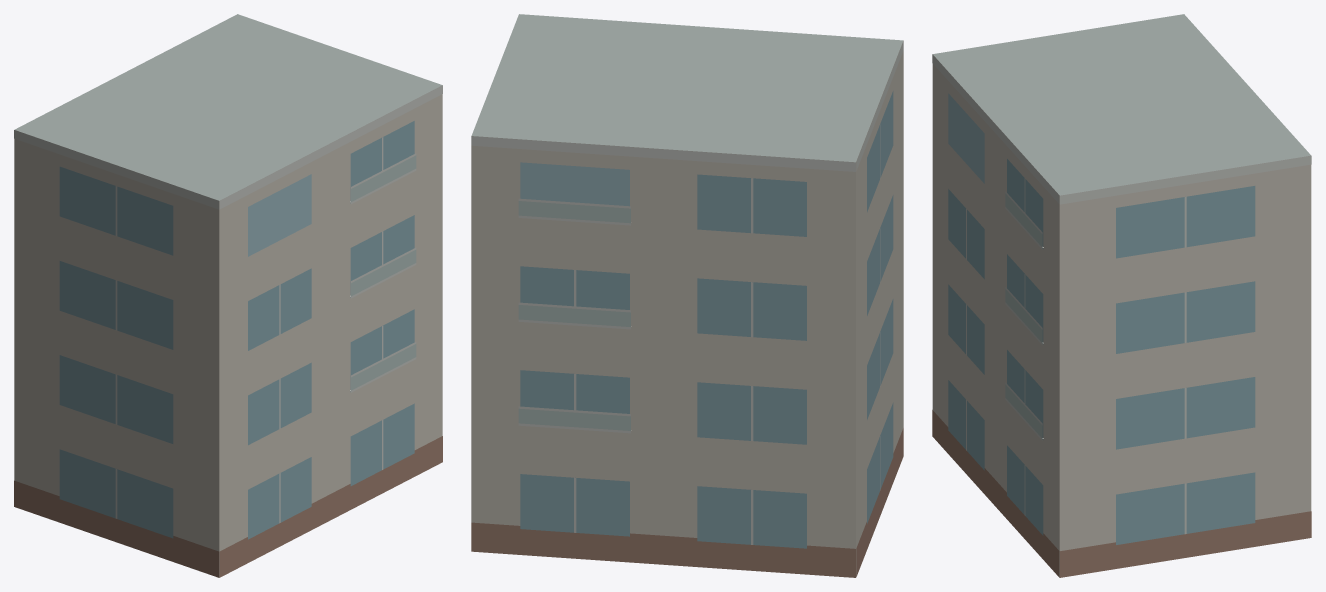
File: survey-upis-33017912.glb
3 views of the same model, side by side, from view 1: azimuth 30°, elevation 25°; view 2: azimuth 150°, elevation 25°; view 3: azimuth 270°, elevation 25° (orthographic). The views are drawn at different scales.
Parts seen in each view (by area): view 1: survey-upis-33017912.tmp; view 2: survey-upis-33017912.tmp; view 3: survey-upis-33017912.tmp.
Part boxes in pixels (x1,y1,x2,y2): survey-upis-33017912.tmp: (14,14,442,577); survey-upis-33017912.tmp: (471,14,903,577); survey-upis-33017912.tmp: (932,14,1311,577).
Size of the model in its own units: 10.61 by 10.4 by 9.35.
